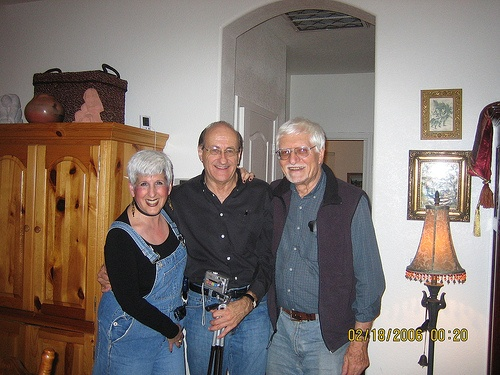head: (272, 117, 324, 185), (127, 150, 175, 216), (197, 120, 245, 186)
person: (264, 111, 383, 375), (166, 117, 275, 375), (85, 147, 190, 373)
